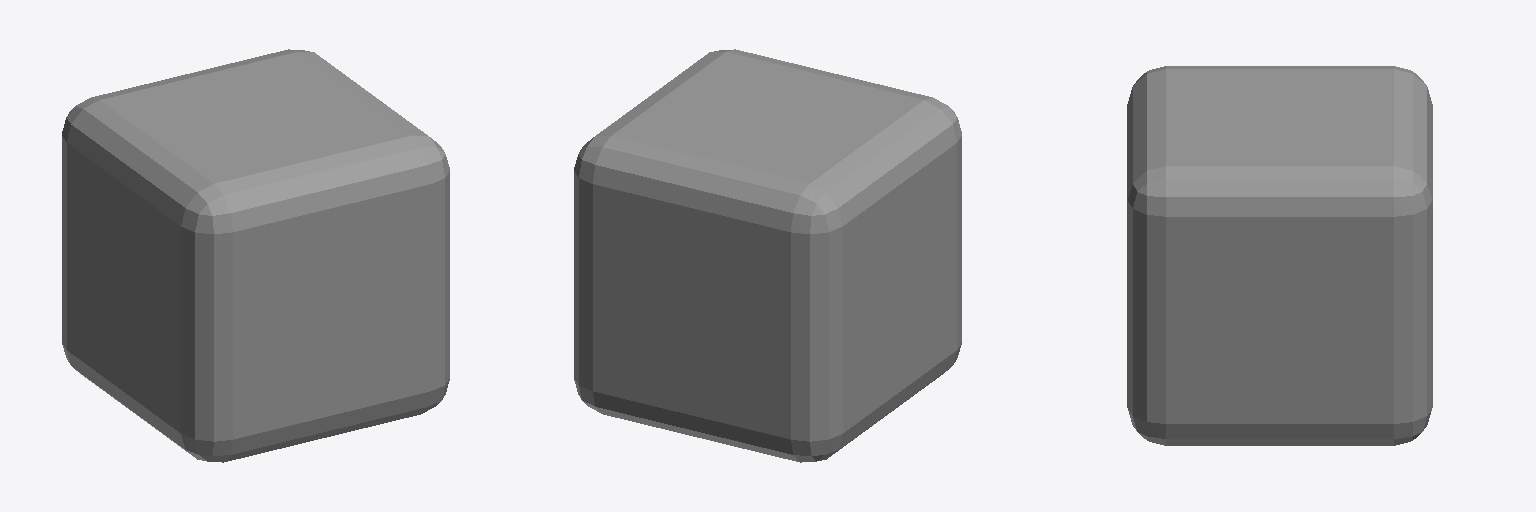
File: cube_with_rounded_edges6.obj
3 renders of one model, left to right at view 1: azimuth 30°, elevation 25°; view 2: azimuth 150°, elevation 25°; view 3: azimuth 270°, elevation 25°, orthographic.
Visible parts, largest first — view 1: cube6; view 2: cube6; view 3: cube6.
Boxes of the visible parts, <box> form: cube6: <box>62,49,449,462</box>; cube6: <box>574,49,961,462</box>; cube6: <box>1127,66,1432,445</box>.
Bounding box in the file's own units: 2 × 2 × 2.